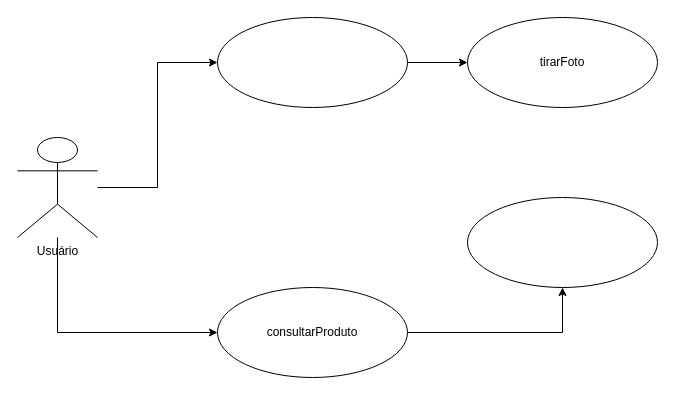
The diagram is 675 pixels wide and 395 high, and some of its shapes have lost their labels. The centre of each missing label's shape, as x and y in pixels:
cadastrarProduto: (312,62)
consultarDados: (562,242)
